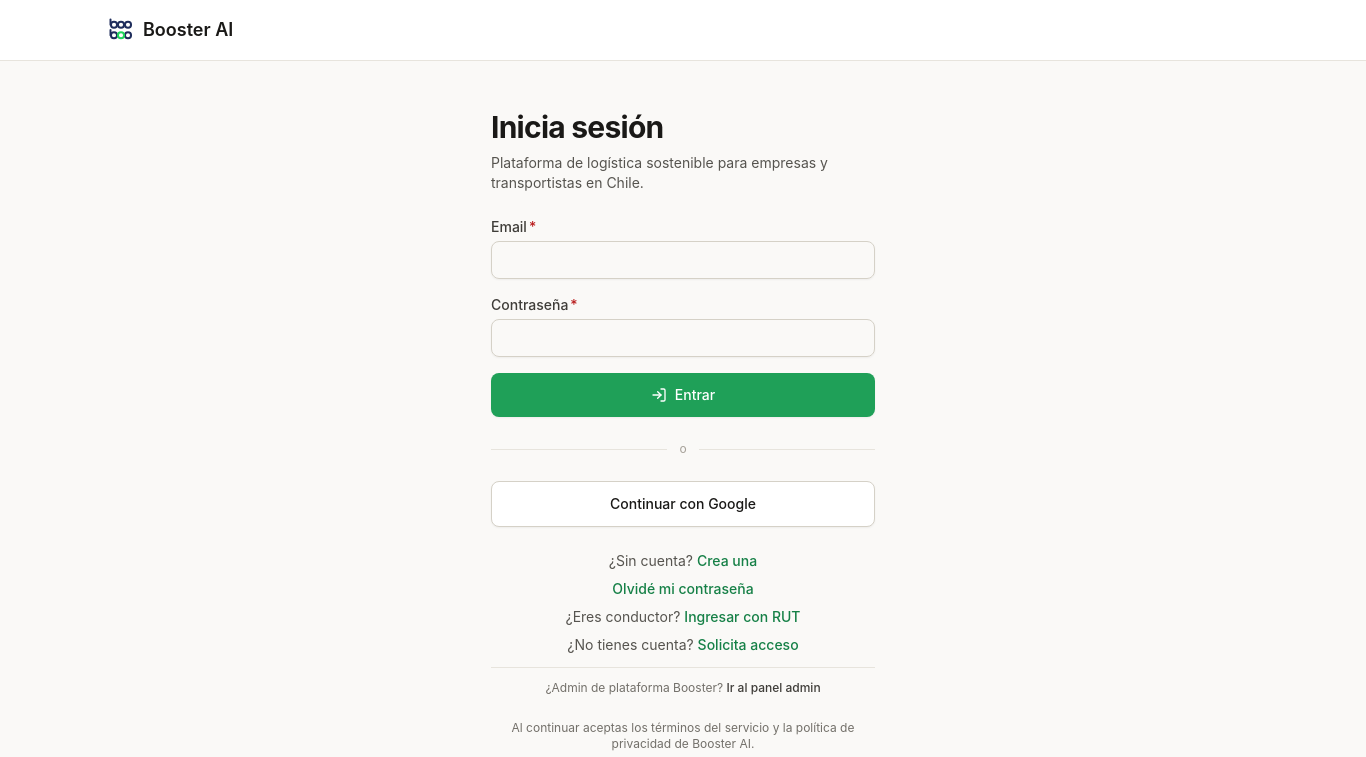
Scenario: LoginRoute — sign in con email/password › email inválido → error en input email
Type "no-email" into the field labelled "Email*".
click(683, 260); type("no-email")  # box [491, 241, 875, 279]
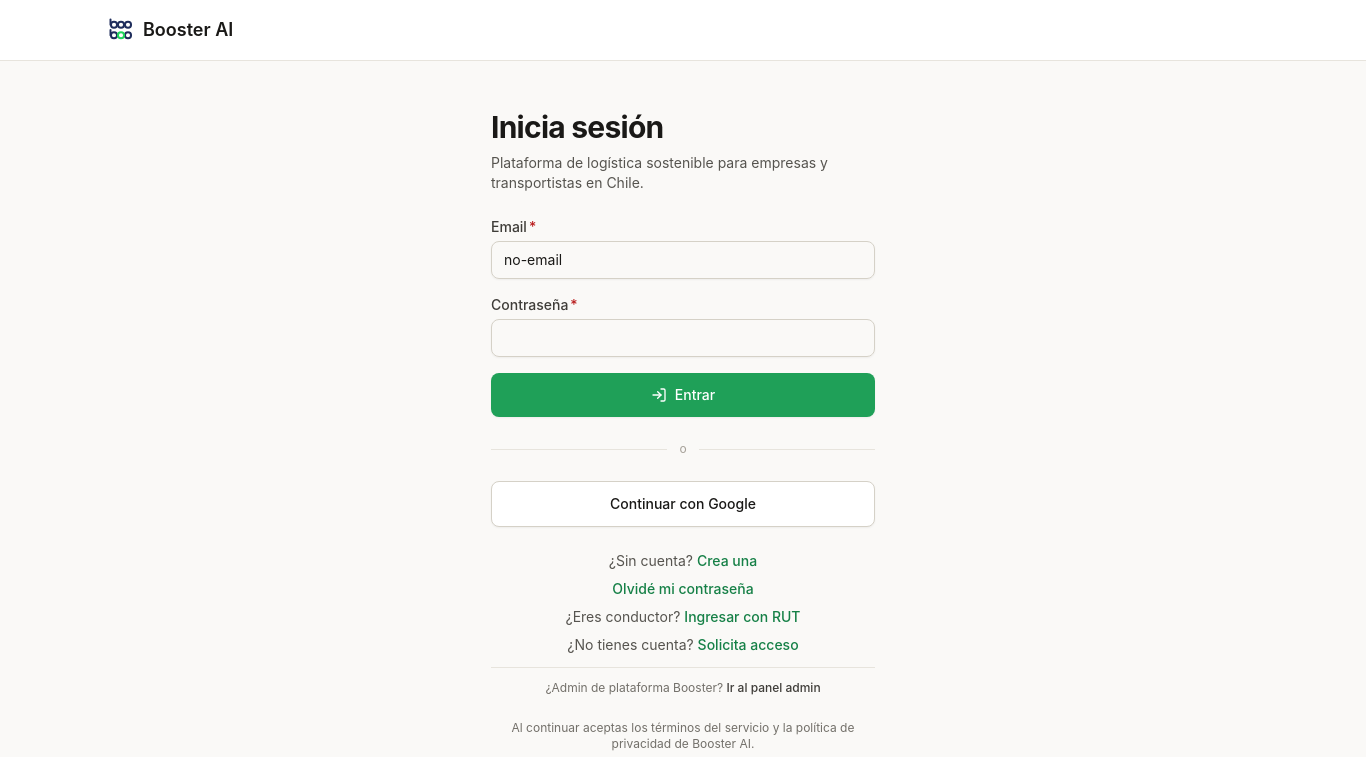
Type "123456" into the password field labelled "Contraseña*".
click(683, 338); type("123456")  # box [491, 319, 875, 357]
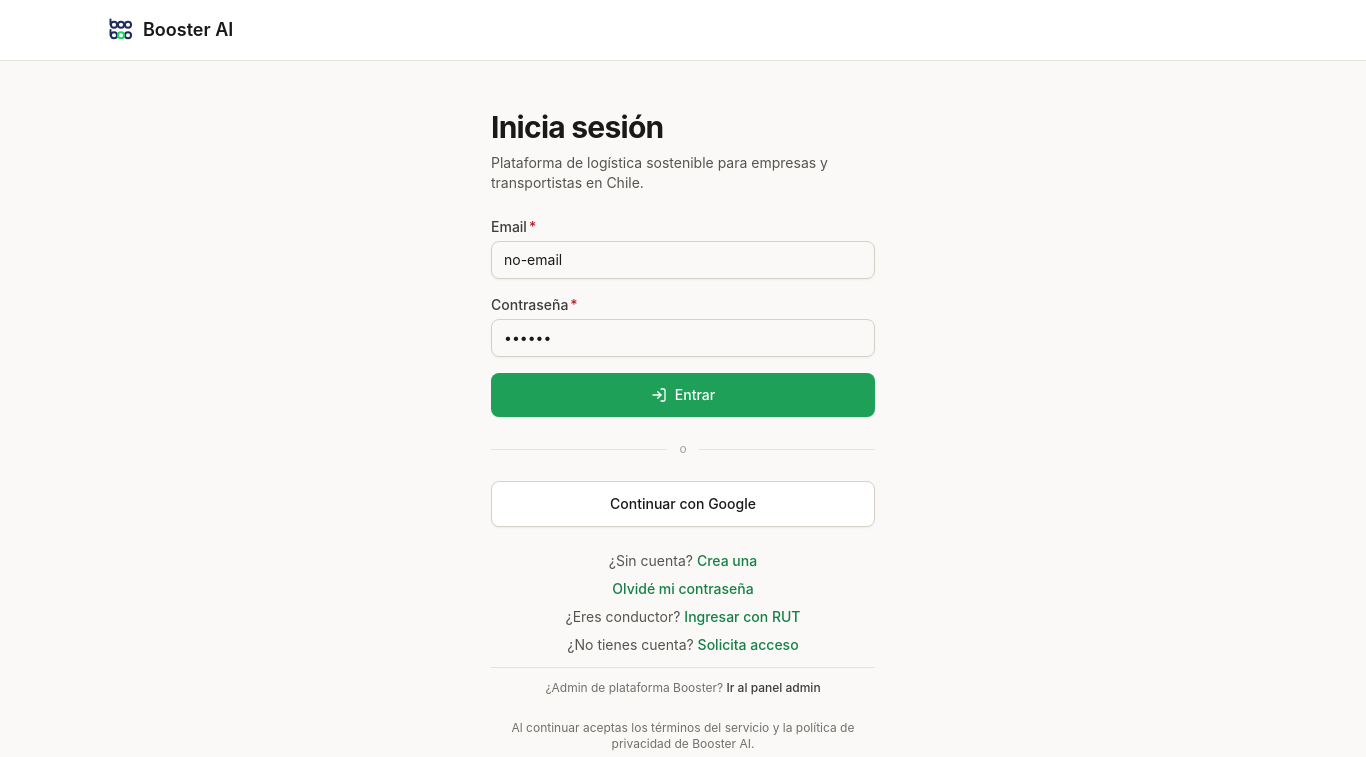
Click the button "Entrar".
click(683, 395)  # box [491, 373, 875, 417]
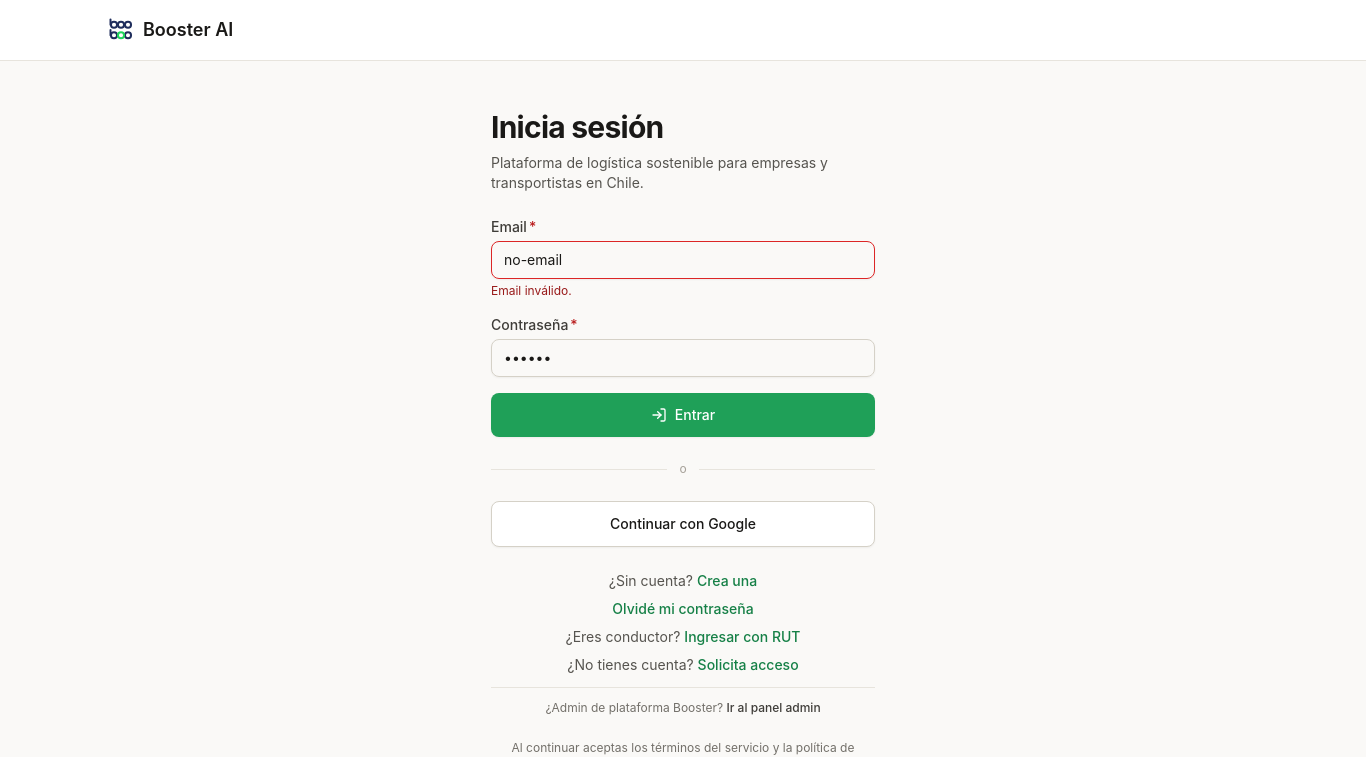
Expected: the text "Email inválido." is shown, [491, 283, 572, 298]
